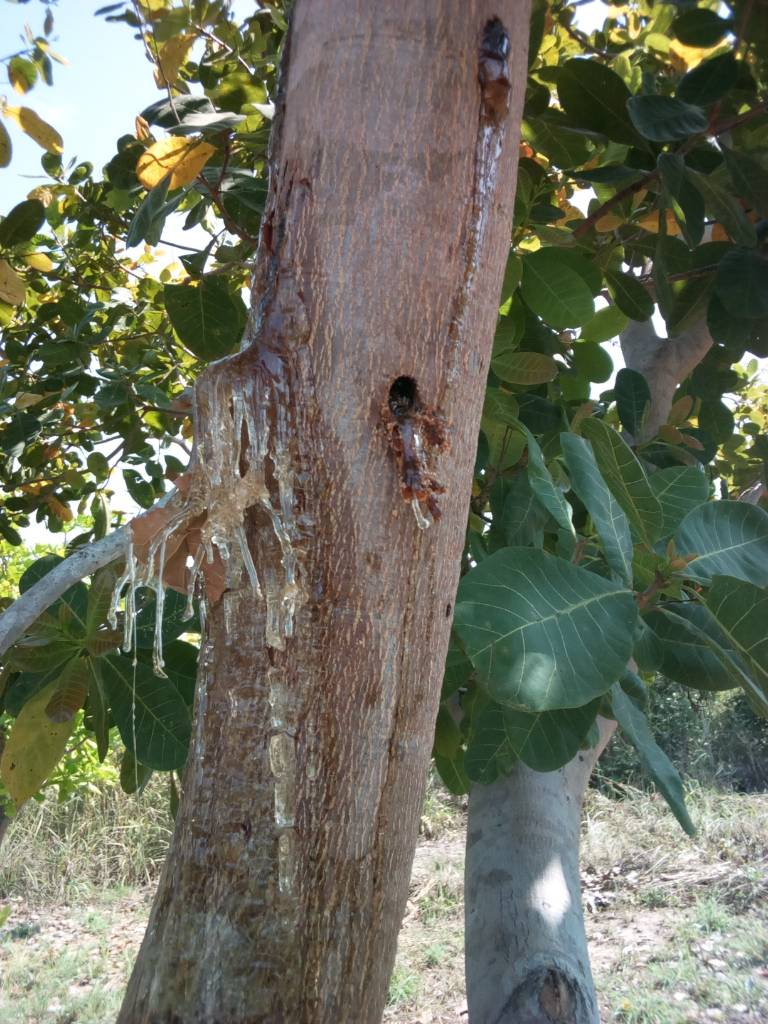Apate terebrans: (325, 353, 489, 523)
